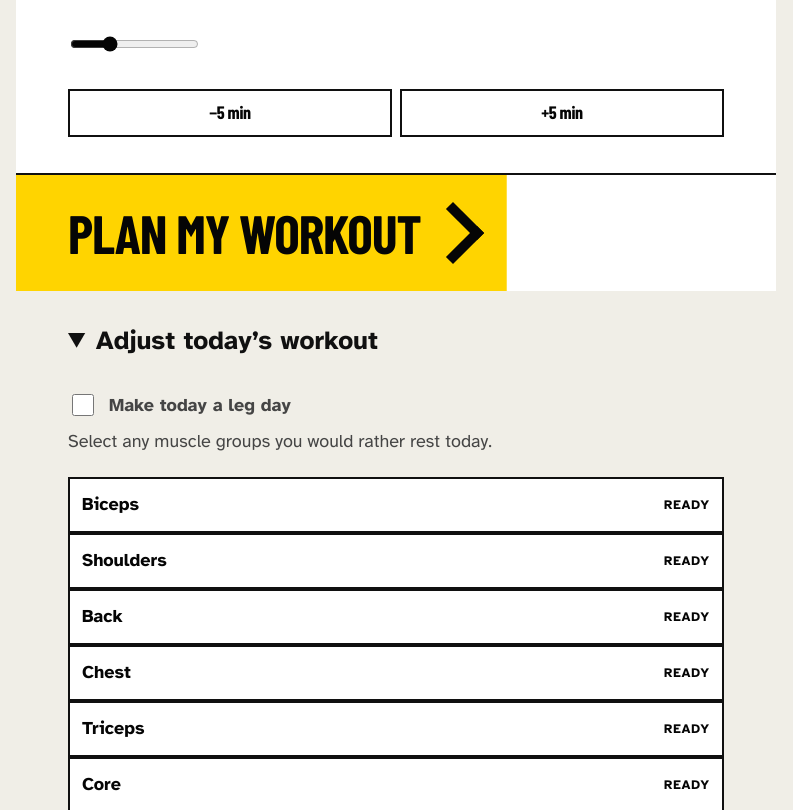
Test: Generator Component › keeps the Plan action ahead of optional recovery choices
(page scrolled)
Expected: the button "Plan my workout" is shown, x1=16 y1=175 x2=507 y2=291
Click the checkbox labelled "Make today a leg day" at point(83, 405), box x1=72 y1=394 x2=94 y2=416
(page scrolled)
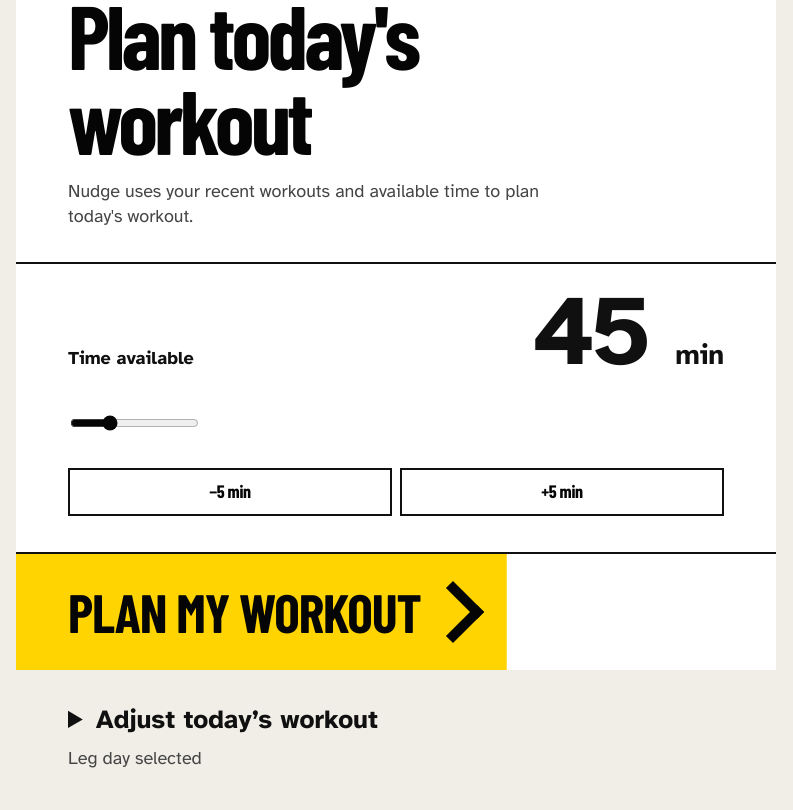
Result: the heading "Adjust today’s workout Leg day selected" is shown at x1=68 y1=703 x2=378 y2=769
